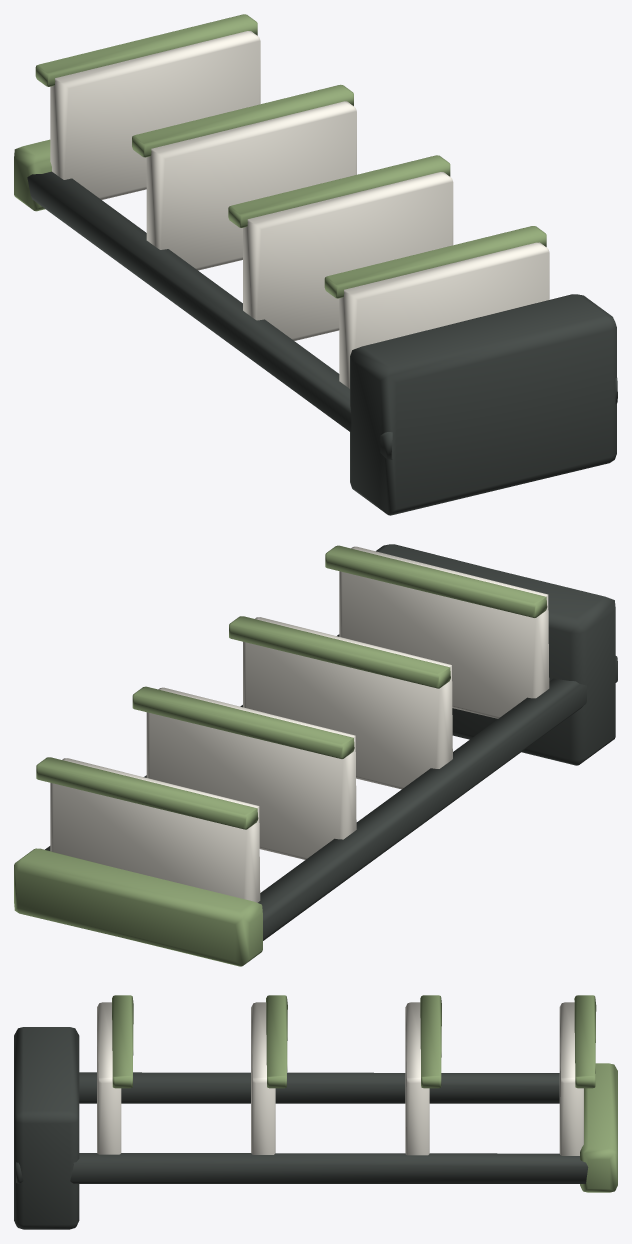
The model's file is shelf_endcap.glb.
3 views of the same model, one above another, from view 1: azimuth 30°, elevation 25°; view 2: azimuth 150°, elevation 25°; view 3: azimuth 270°, elevation 25° (orthographic). The views are drawn at different scales.
Parts seen in each view (by area): view 1: Base, Shelf.001, Shelf.002, Shelf.003, Post, Shelf, Trim.003, Trim.001, Trim, Trim.002, Header; view 2: Shelf.002, Shelf, Shelf.001, Header, Post, Shelf.003, Base, Trim.002, Trim.003, Trim, Trim.001; view 3: Post.001, Base, Post, Header, Shelf.002, Shelf.003, Shelf.001, Shelf, Trim, Trim.002, Trim.001, Trim.003.
Part boxes in pixels (bbox=[...]): Base: bbox=[350, 294, 616, 515]; Shelf.001: bbox=[243, 172, 453, 340]; Shelf.002: bbox=[146, 101, 356, 270]; Shelf.003: bbox=[50, 31, 260, 199]; Post: bbox=[27, 171, 392, 459]; Shelf: bbox=[339, 242, 549, 388]; Trim.003: bbox=[35, 14, 257, 86]; Trim.001: bbox=[228, 155, 450, 227]; Trim: bbox=[324, 226, 546, 298]; Trim.002: bbox=[132, 84, 353, 157]; Header: bbox=[14, 139, 51, 211]; Shelf.002: bbox=[146, 687, 356, 859]; Shelf: bbox=[339, 546, 549, 718]; Shelf.001: bbox=[243, 617, 452, 789]; Header: bbox=[14, 848, 262, 966]; Post: bbox=[258, 656, 617, 940]; Shelf.003: bbox=[50, 758, 260, 902]; Base: bbox=[376, 544, 615, 765]; Trim.002: bbox=[132, 686, 354, 758]; Trim.003: bbox=[36, 757, 258, 829]; Trim: bbox=[325, 545, 547, 617]; Trim.001: bbox=[229, 616, 450, 688]; Post.001: bbox=[16, 1153, 588, 1183]; Base: bbox=[14, 1027, 79, 1229]; Post: bbox=[79, 1072, 559, 1103]; Header: bbox=[580, 1063, 617, 1192]; Shelf.002: bbox=[405, 1002, 429, 1155]; Shelf.003: bbox=[559, 1002, 583, 1155]; Shelf.001: bbox=[251, 1002, 275, 1154]; Shelf: bbox=[97, 1002, 121, 1154]; Trim: bbox=[112, 995, 133, 1088]; Trim.002: bbox=[420, 995, 441, 1088]; Trim.001: bbox=[266, 995, 287, 1088]; Trim.003: bbox=[574, 995, 596, 1088].
Size of the model in its own units: 0.8 by 0.615 by 2.22.
